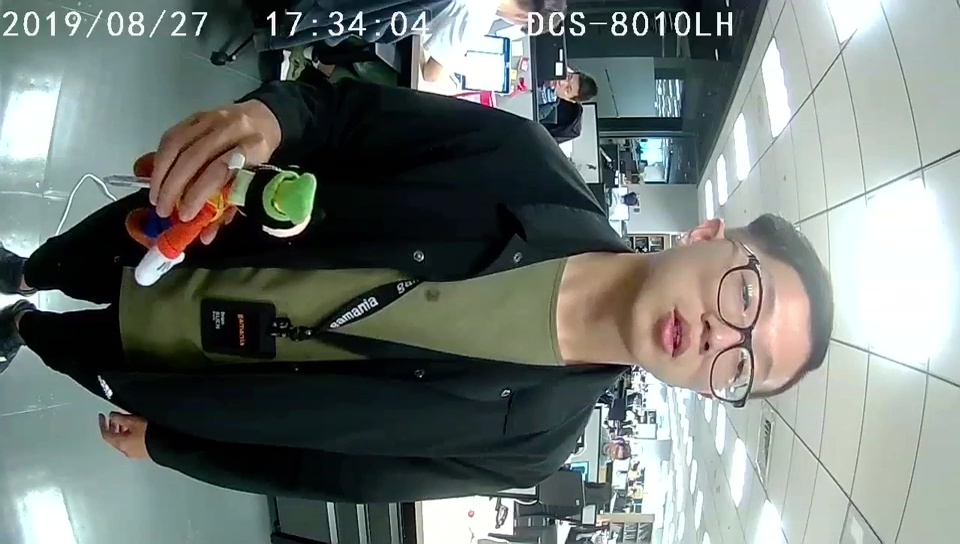goofy: (124, 150, 319, 287)
